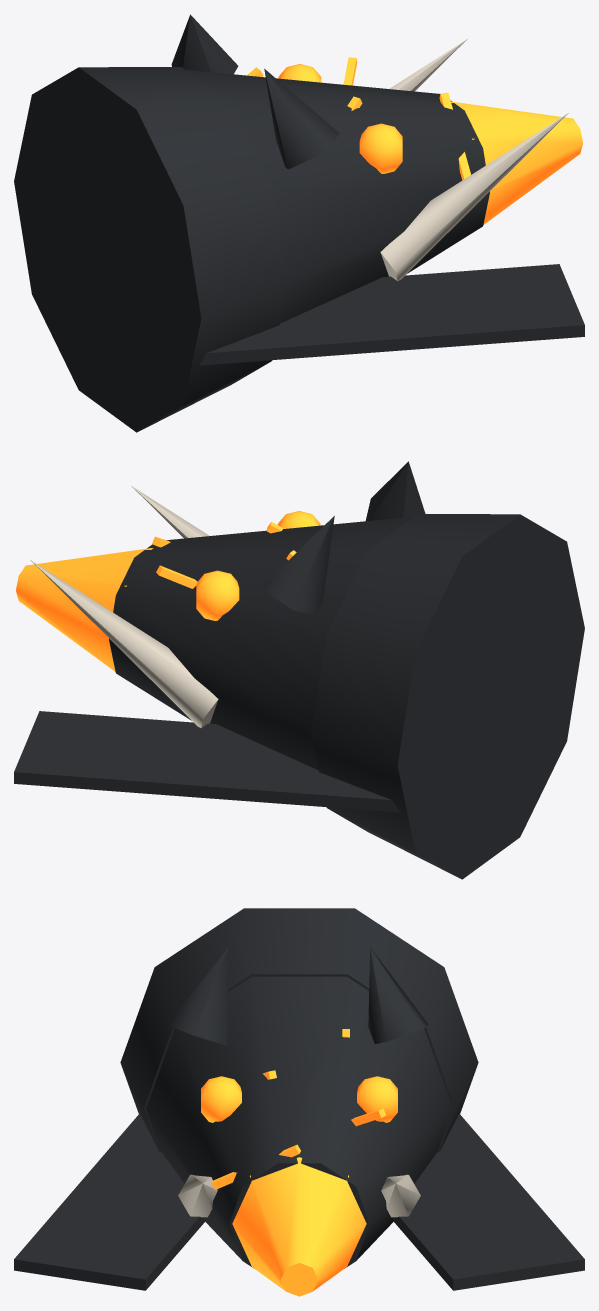
File: juggernaut-ram.glb
3 renders of one model, top to bottom at view 1: azimuth 30°, elevation 25°; view 2: azimuth 150°, elevation 25°; view 3: azimuth 270°, elevation 25°, orthographic. The views are drawn at different scales.
Visible parts, largest first — view 1: Mesh_Collar, Mesh_Head, Mesh_Blade1, Mesh_Snout, Mesh_Tusk1, Mesh_Ear1, Mesh_Ear-1, Mesh_Eye1, Mesh_Tusk-1, Mesh_Eye-1; view 2: Mesh_Collar, Mesh_Head, Mesh_Blade-1, Mesh_Snout, Mesh_Tusk-1, Mesh_Ear-1, Mesh_Ear1, Mesh_Eye-1, Mesh_Tusk1, Mesh_Eye1; view 3: Mesh_Head, Mesh_Collar, Mesh_Blade-1, Mesh_Blade1, Mesh_Snout, Mesh_Ear1, Mesh_Ear-1, Mesh_Eye1, Mesh_Eye-1, Mesh_Tusk-1, Mesh_Tusk1.
Boxes of the visible parts, bbox=[...] form: Mesh_Collar: bbox=[14, 67, 287, 432]; Mesh_Head: bbox=[185, 69, 489, 323]; Mesh_Blade1: bbox=[199, 264, 584, 365]; Mesh_Snout: bbox=[451, 101, 582, 224]; Mesh_Tusk1: bbox=[380, 113, 568, 281]; Mesh_Ear1: bbox=[264, 69, 339, 169]; Mesh_Ear-1: bbox=[171, 14, 238, 74]; Mesh_Eye1: bbox=[359, 123, 402, 173]; Mesh_Tusk-1: bbox=[389, 39, 467, 91]; Mesh_Eye-1: bbox=[278, 64, 321, 82]; Mesh_Collar: bbox=[311, 514, 584, 879]; Mesh_Head: bbox=[109, 516, 413, 770]; Mesh_Blade-1: bbox=[14, 711, 399, 812]; Mesh_Snout: bbox=[16, 548, 153, 671]; Mesh_Tusk-1: bbox=[30, 560, 218, 728]; Mesh_Ear-1: bbox=[261, 516, 334, 614]; Mesh_Ear1: bbox=[365, 461, 425, 521]; Mesh_Eye-1: bbox=[196, 570, 239, 620]; Mesh_Tusk1: bbox=[131, 486, 209, 538]; Mesh_Eye1: bbox=[277, 511, 320, 528]; Mesh_Head: bbox=[146, 976, 452, 1267]; Mesh_Collar: bbox=[120, 908, 478, 1152]; Mesh_Blade-1: bbox=[392, 1113, 584, 1290]; Mesh_Blade1: bbox=[14, 1113, 206, 1290]; Mesh_Snout: bbox=[232, 1157, 366, 1296]; Mesh_Ear1: bbox=[167, 947, 228, 1045]; Mesh_Ear-1: bbox=[368, 947, 428, 1044]; Mesh_Eye1: bbox=[201, 1076, 241, 1122]; Mesh_Eye-1: bbox=[357, 1076, 397, 1122]; Mesh_Tusk-1: bbox=[381, 1174, 420, 1217]; Mesh_Tusk1: bbox=[178, 1174, 217, 1217].
Size of the model in its own units: 3.3 by 2.31 by 3.67.
